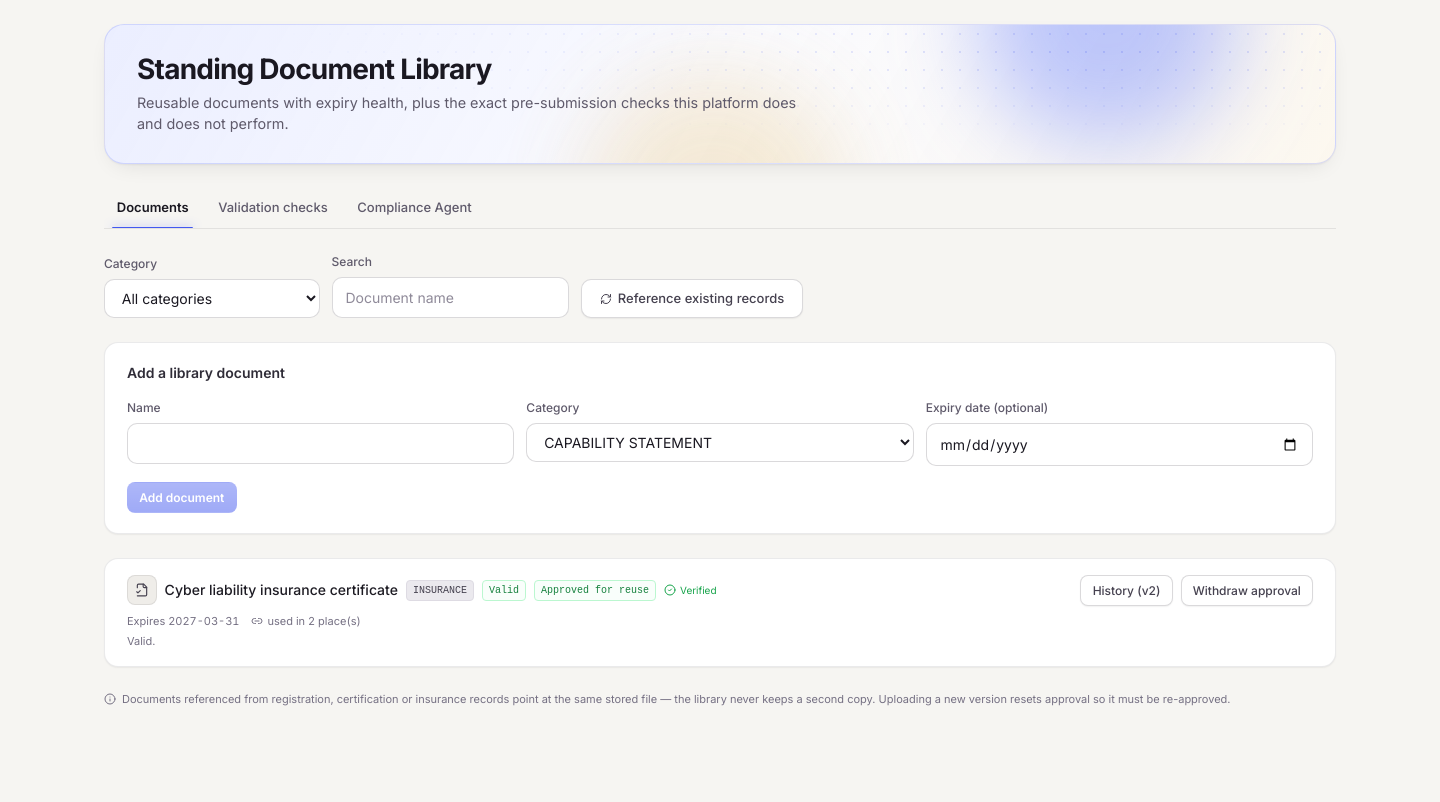
Test: DocumentLibrary — version history › says recording a version withdraws approval
The width and height of the screenshot is (1440, 802).
Click the button "History (v2)".
click(1127, 591)  # box [1080,575,1173,606]
(page scrolled)
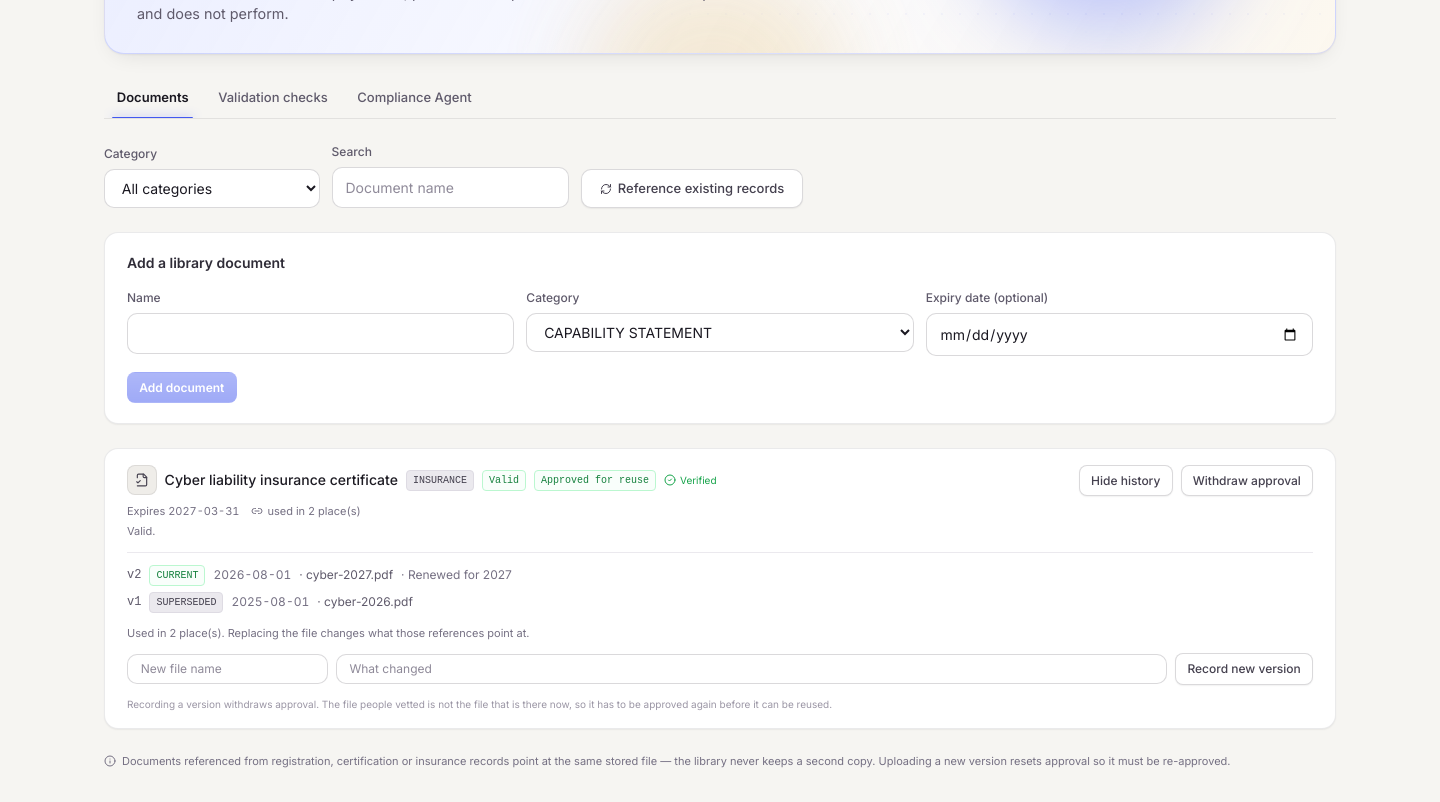
Check: the text "Recording a version withdraws approval" is shown, box [127,698,832,710]
